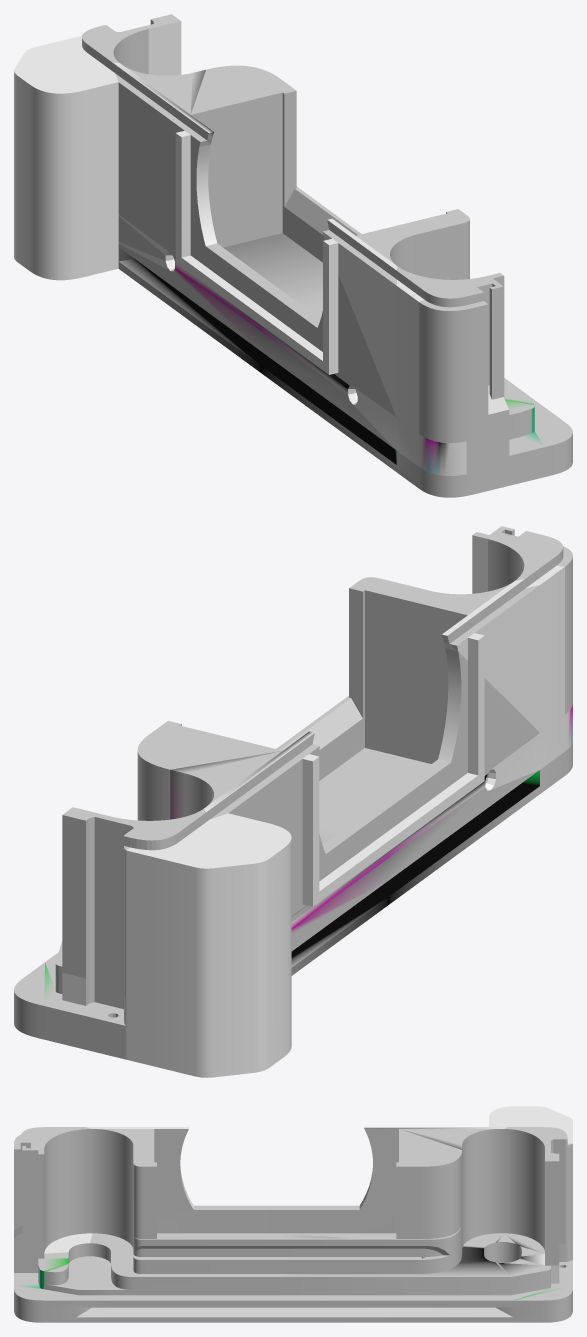
Rendered from Body_bottom.FBX.
3 renders of one model, top to bottom at view 1: azimuth 30°, elevation 25°; view 2: azimuth 150°, elevation 25°; view 3: azimuth 270°, elevation 25°, orthographic. The views are drawn at different scales.
Parts seen in each view (by area): view 1: Main Body Bottom_new, Object003; view 2: Main Body Bottom_new, Object003; view 3: Main Body Bottom_new, Object003.
Part boxes in pixels (bbox=[...]): Main Body Bottom_new: bbox=[82, 14, 572, 497]; Object003: bbox=[14, 35, 118, 280]; Main Body Bottom_new: bbox=[14, 526, 572, 1059]; Object003: bbox=[126, 813, 291, 1077]; Main Body Bottom_new: bbox=[14, 1127, 572, 1322]; Object003: bbox=[489, 1106, 572, 1143].
Size of the model in its own units: 2.19 by 1.89 by 6.61.
